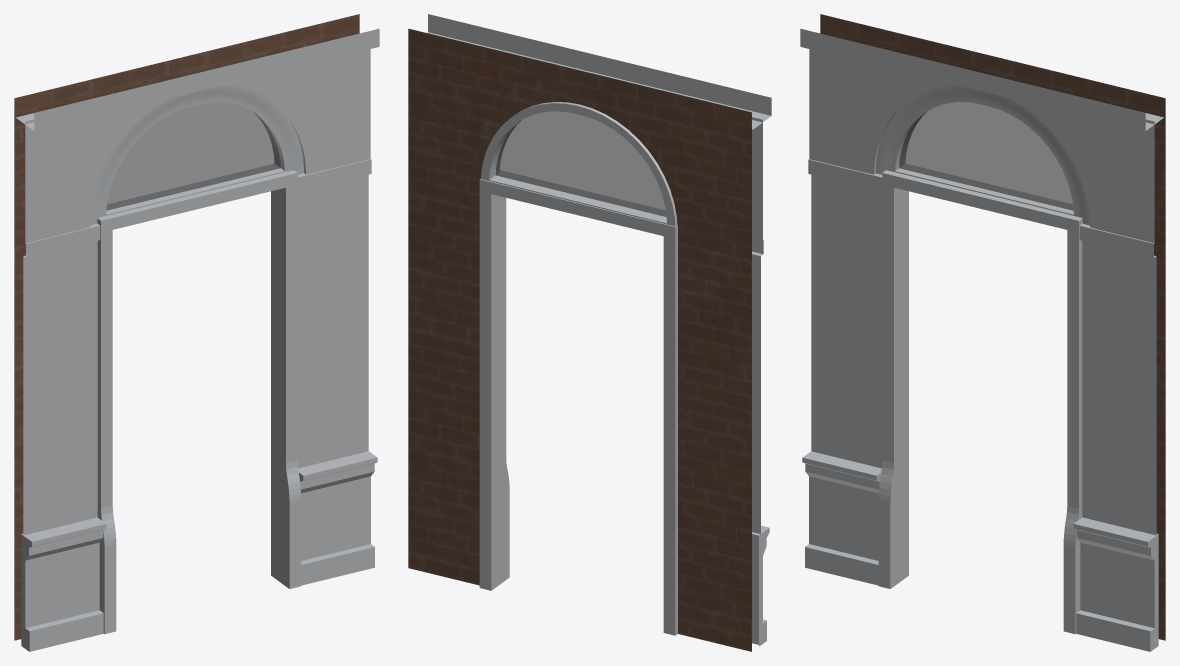
File: DoorFrame_Trim.gltf
3 views of the same model, side by side, from view 1: azimuth 30°, elevation 25°; view 2: azimuth 150°, elevation 25°; view 3: azimuth 330°, elevation 25° (orthographic).
Visible parts, largest first — view 1: DoorFrame_Trim; view 2: DoorFrame_Trim; view 3: DoorFrame_Trim.
Boxes of the visible parts, x1=… form: DoorFrame_Trim: x1=14, y1=14, x2=379, y2=651; DoorFrame_Trim: x1=408, y1=14, x2=771, y2=651; DoorFrame_Trim: x1=800, y1=14, x2=1165, y2=651.
Size of the model in its own units: 2 by 3 by 0.2256.
Materials: 4 (1 with a texture image).
